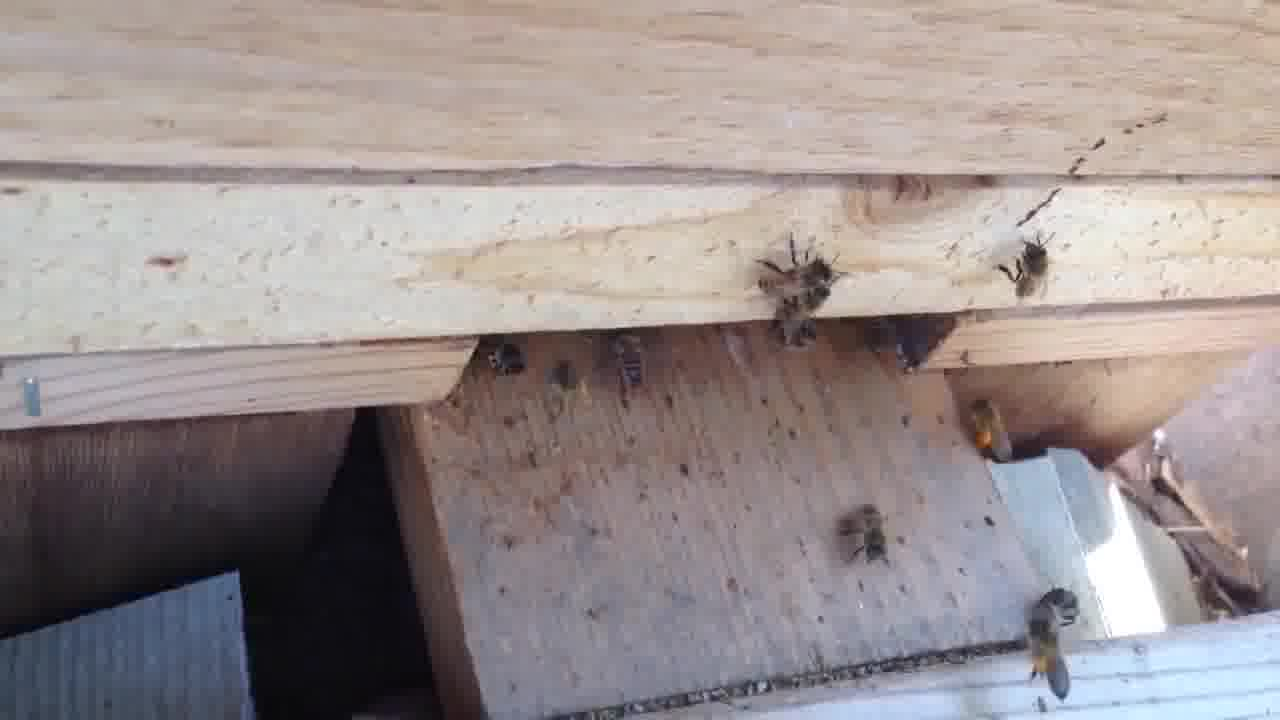pollen: (1022, 615, 1075, 700), (961, 393, 1005, 459)
